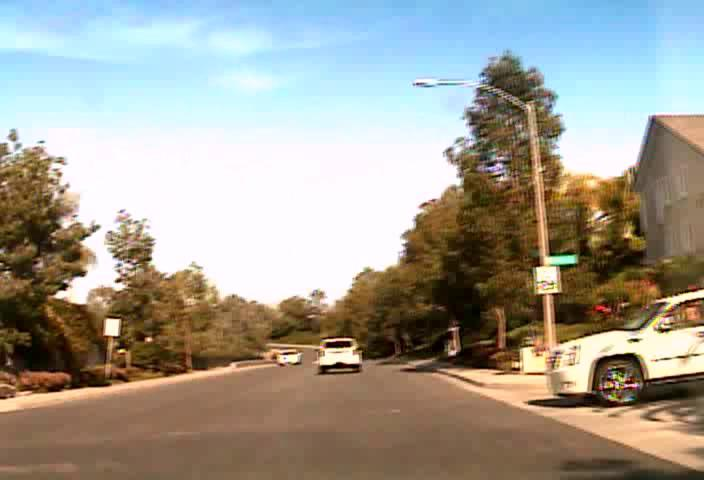speedLimit25: (534, 265, 560, 295)
